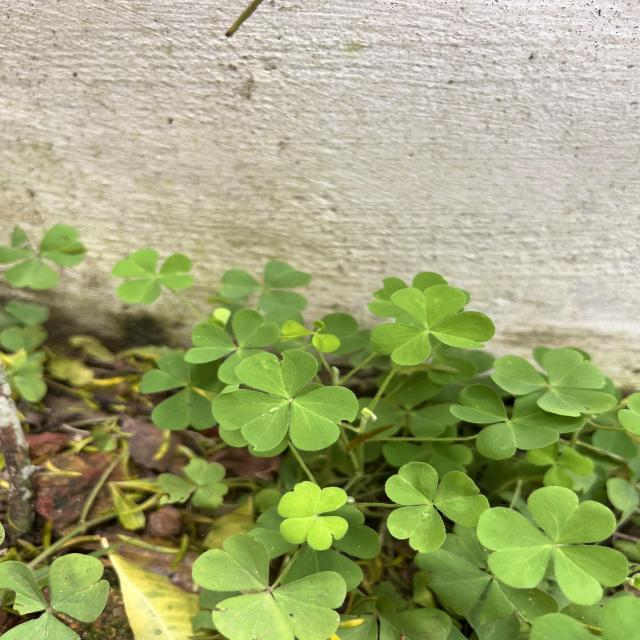Oxalis corniculata: (474, 484, 634, 608), (189, 531, 349, 640), (209, 348, 362, 453), (368, 283, 494, 367), (0, 549, 114, 640), (385, 460, 492, 555), (490, 347, 620, 418), (184, 307, 282, 386), (276, 478, 350, 552), (110, 248, 196, 304)
